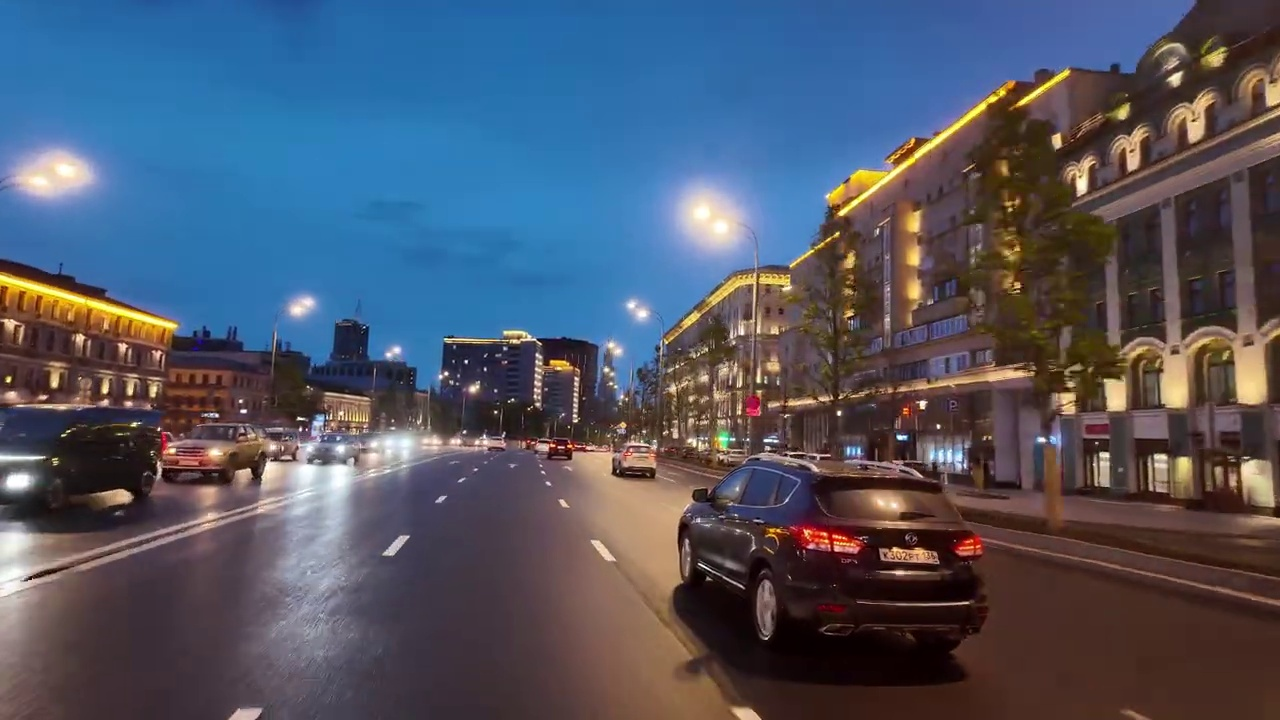acesa: (688, 197, 734, 242), (29, 158, 83, 189), (287, 293, 315, 318), (626, 298, 651, 323)
